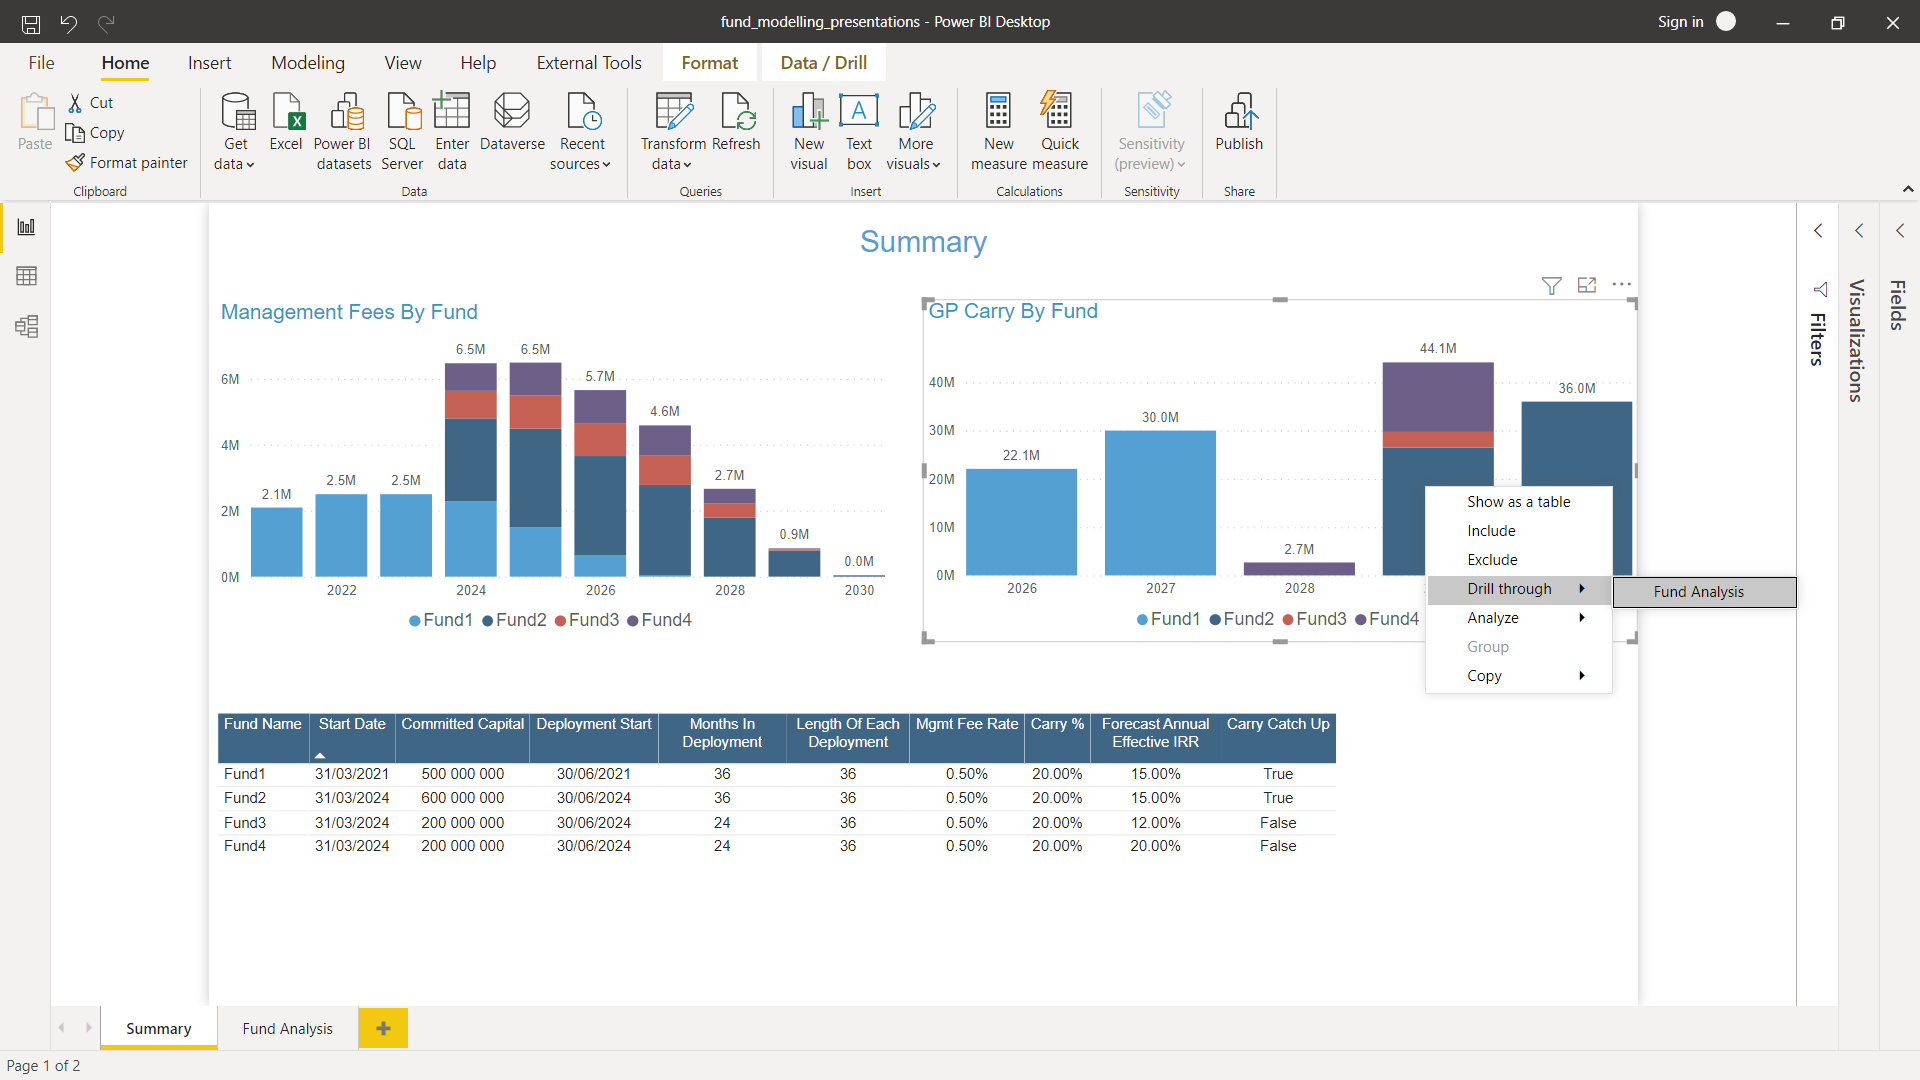

The page's visual inventory and layout, read from the dashboard file:
{"tool":"powerbi","page":{"name":"Summary","canvas":[1280,720],"ordinal":0},"visuals":[{"type":"columnChart","title":"Management Fees By Fund","fields":{"Category":["Date Table.Year"],"Series":["Fund Names.Fund Name"],"Y":["Fund Schedules.Sum of Management Fees"]},"box":[5.4,87.6,604.8,307.3],"z":0},{"type":"columnChart","title":"GP Carry By Fund","fields":{"Category":["Date Table.Year"],"Y":["Date Table.Sum of GP Carry"],"Series":["Fund Names.Fund Name"]},"box":[639,86.6,641,307.6],"z":1000},{"type":"pivotTable","fields":{"Values":["Min(Fund Inputs.Start Date)","Sum(Fund Inputs.Committed Capital)","Min(Fund Inputs.Deployment Start Date)","Sum(Fund Inputs.Number Of Months In Deployment)","Sum(Fund Inputs.Length Of Deployment In Months)","Sum(Fund Inputs.Mgmt Fee Rate)","Sum(Fund Inputs.Carry %)","Sum(Fund Inputs.Annual Effective IRR)","Date Table.Carry Catch Up Selected Value"],"Rows":["Fund Inputs.fund_name"]},"box":[3.8,452.6,1268.7,254.5],"z":2000},{"type":"card","fields":{"Values":["Date Table.Title Summary"]},"box":[0,6.3,1280,55.3],"z":3000}]}

Visuals, with their boxes on the page's 1280x720 design canvas (x1, y1, x2, y2). These are canvas units, not pixel positions in the 1920x1080 screenshot, which may show the page scaled, cropped or inside an application window:
"Management Fees By Fund" columnChart: detection(5, 88, 610, 395)
"GP Carry By Fund" columnChart: detection(639, 87, 1280, 394)
pivotTable - Min(Fund Inputs.Start Date) x Sum(Fund Inputs.Committed Capital): detection(4, 453, 1272, 707)
card - Date Table.Title Summary: detection(0, 6, 1280, 62)
